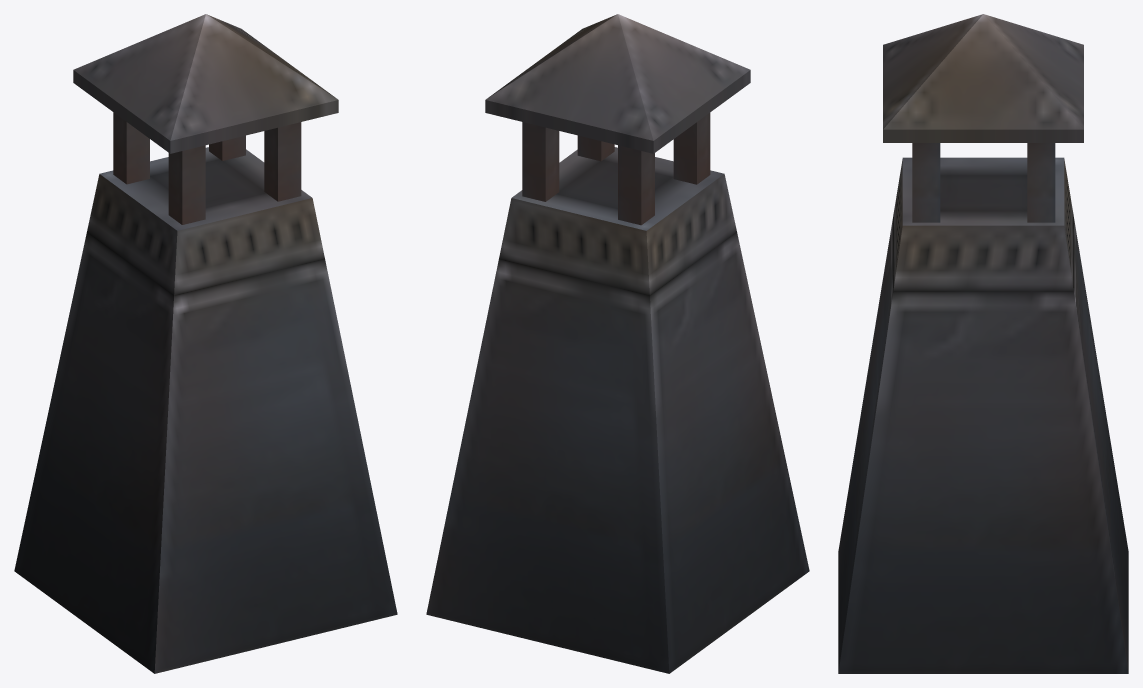
Rendered from metal_roof_2.FBX.
3 views of the same model, side by side, from view 1: azimuth 30°, elevation 25°; view 2: azimuth 150°, elevation 25°; view 3: azimuth 270°, elevation 25° (orthographic). The views are drawn at different scales.
Visible parts, largest first — view 1: Object436; view 2: Object436; view 3: Object436.
Boxes of the visible parts, bbox=[...] form: Object436: bbox=[14, 14, 397, 673]; Object436: bbox=[426, 14, 809, 673]; Object436: bbox=[838, 14, 1128, 673].
Bounding box in the file's own units: 32.32 × 73.57 × 32.32.
